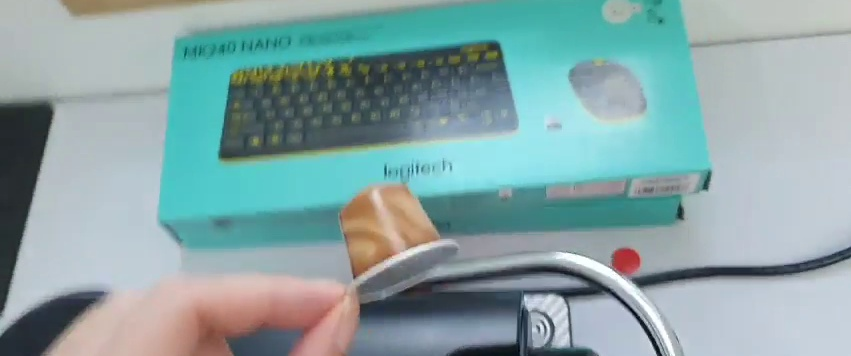capsule_12: (336, 180, 460, 297)
